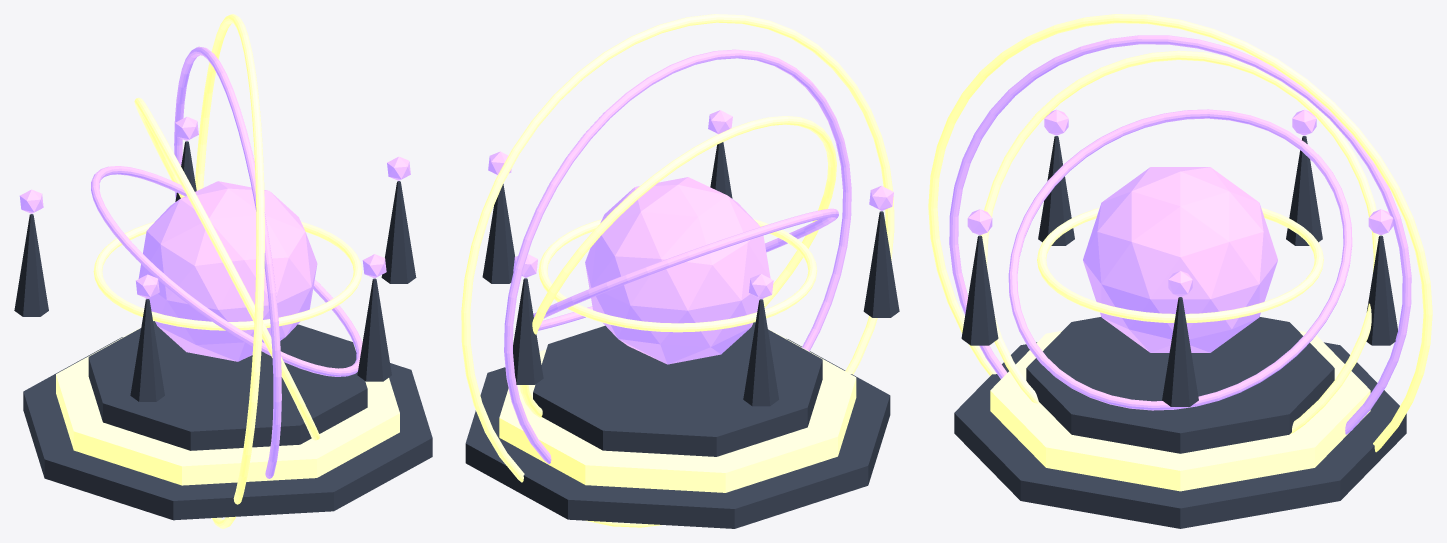
File: gpu-blender-v14.glb
The picture shows the model from 3 angles, left to right: view 1: azimuth 30°, elevation 25°; view 2: azimuth 150°, elevation 25°; view 3: azimuth 270°, elevation 25°; orthographic projection. The views are drawn at different scales.
Visible parts, largest first — view 1: Cylinder.002, Cylinder, SovereignCore_agent-voice-call, Cylinder.001, Torus.004, Torus.003, Torus.001, Torus, Torus.002, Cone.004, Cone.002, Cone.003 (+1 smaller); view 2: Cylinder.002, SovereignCore_agent-voice-call, Cylinder, Cylinder.001, Torus.004, Torus.003, Torus.002, Torus, Torus.001, Cone.002, Cone.003, Cone (+2 smaller); view 3: SovereignCore_agent-voice-call, Cylinder.002, Cylinder, Cylinder.001, Torus.004, Torus.001, Torus.003, Torus.002, Torus, Cone.004, Cone, Cone.001 (+2 smaller).
Boxes of the visible parts, x1,y1,x2,y2 form: Cylinder.002: (88, 321, 367, 450); Cylinder: (23, 337, 432, 520); SovereignCore_agent-voice-call: (138, 181, 317, 361); Cylinder.001: (56, 328, 399, 485); Torus.004: (195, 14, 264, 528); Torus.003: (174, 46, 281, 478); Torus.001: (91, 166, 362, 376); Torus: (93, 221, 362, 330); Torus.002: (134, 97, 320, 440); Cone.004: (357, 278, 391, 381); Cone.002: (14, 214, 48, 316); Cone.003: (130, 299, 164, 401); Cylinder.002: (533, 322, 822, 456); SovereignCore_agent-voice-call: (585, 177, 770, 364); Cylinder: (465, 338, 890, 528); Cylinder.001: (499, 330, 856, 492); Torus.004: (461, 14, 894, 527); Torus.003: (504, 49, 851, 463); Torus.002: (519, 116, 836, 417); Torus: (538, 219, 817, 332); Torus.001: (533, 208, 838, 330); Cone.002: (743, 299, 778, 406); Cone.003: (863, 211, 899, 317); Cone: (482, 184, 514, 283); SovereignCore_agent-voice-call: (1083, 167, 1277, 352); Cylinder.002: (1026, 317, 1334, 453); Cylinder: (954, 342, 1406, 528); Cylinder.001: (990, 330, 1370, 491); Torus.004: (928, 14, 1432, 452); Torus.001: (1008, 109, 1352, 410); Torus.003: (949, 35, 1411, 434); Torus.002: (980, 50, 1380, 433); Torus: (1037, 207, 1323, 322); Cone.004: (961, 235, 998, 345); Cone: (1162, 297, 1198, 406); Cone.001: (1366, 235, 1397, 345).
Size of the model in its own units: 4.41 by 5.33 by 4.9.
